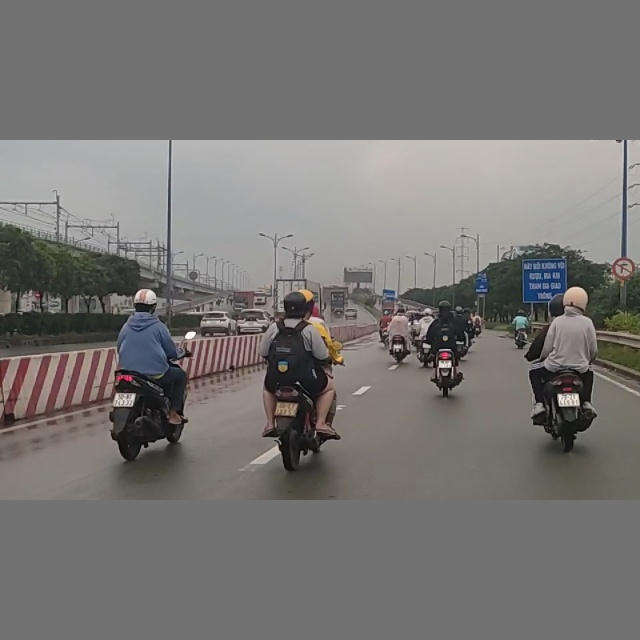P.123b: (613, 259, 635, 279)
